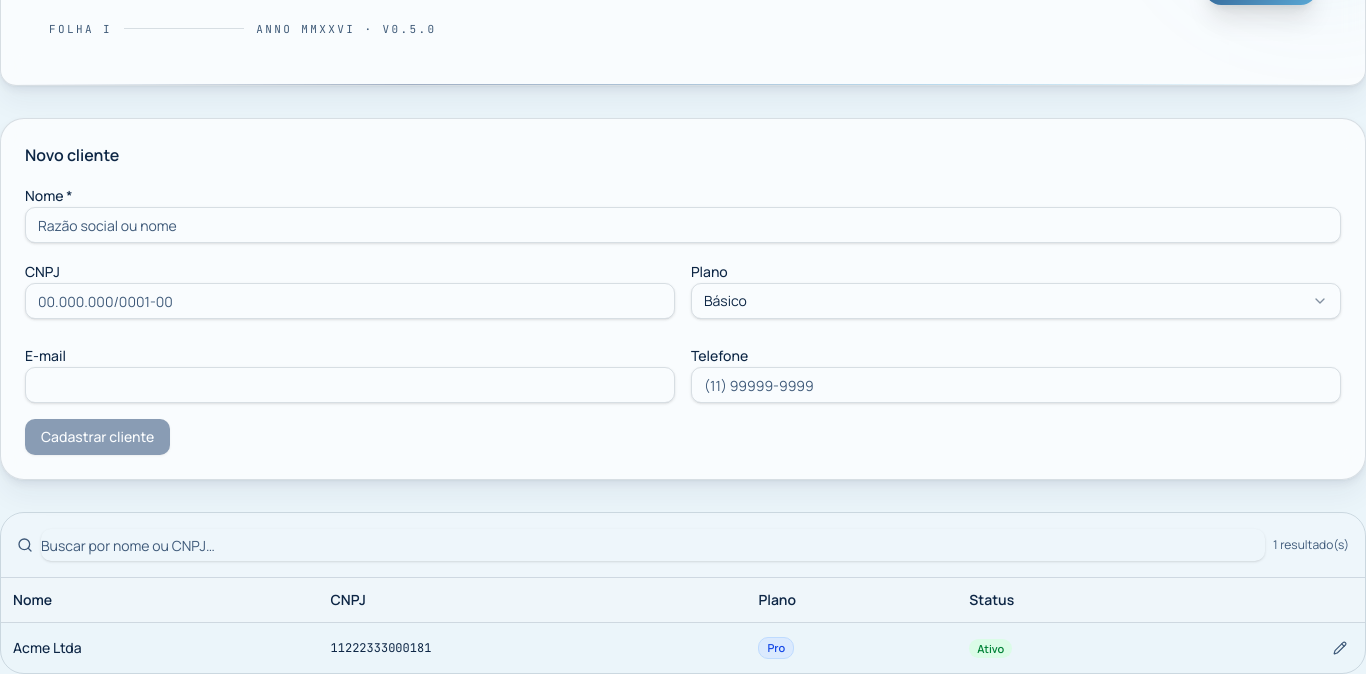
ClientesPage › abre o detalhe e lista o historico de conciliacoes
(page scrolled)
Click the text "Acme Ltda". click: (47, 648)
box: 1,623 -> 319,673
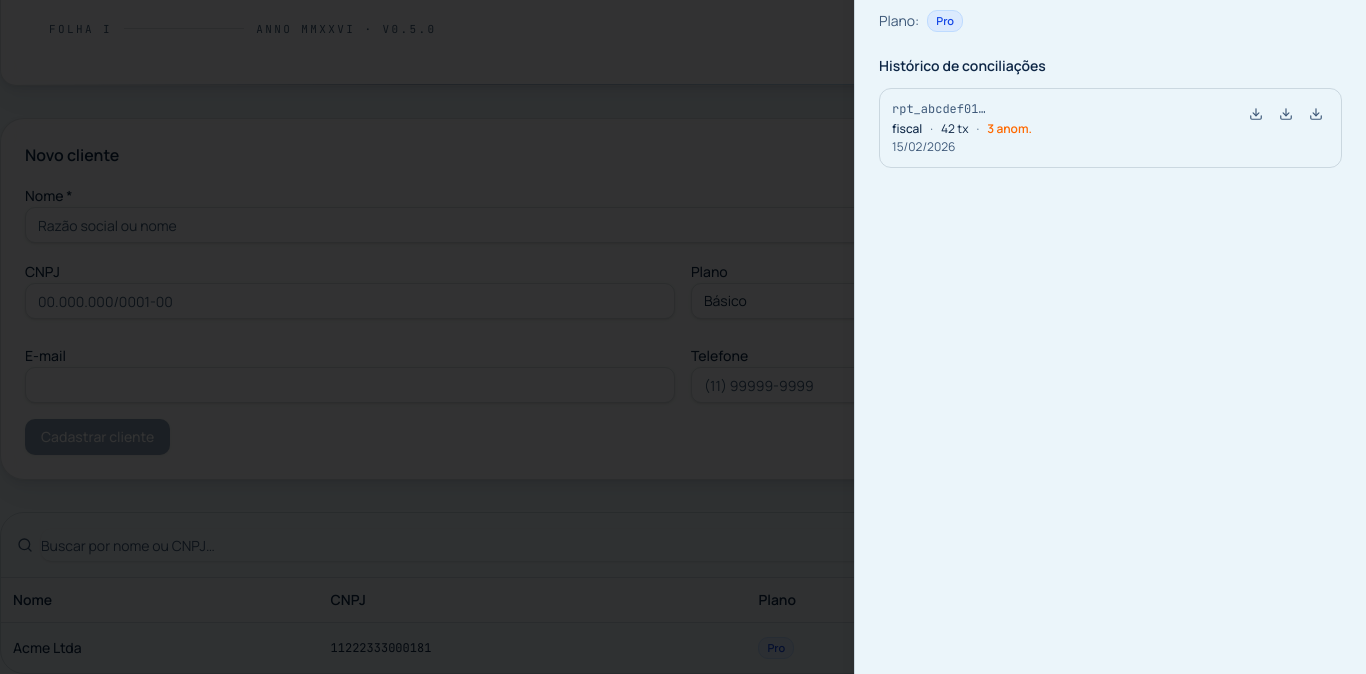
Check: the text "fiscal" is shown, box 892,121 -> 922,137
Check: the text "42 tx" is shown, box 941,121 -> 968,137
Check: the text "3 anom." is shown, box 987,121 -> 1032,137
